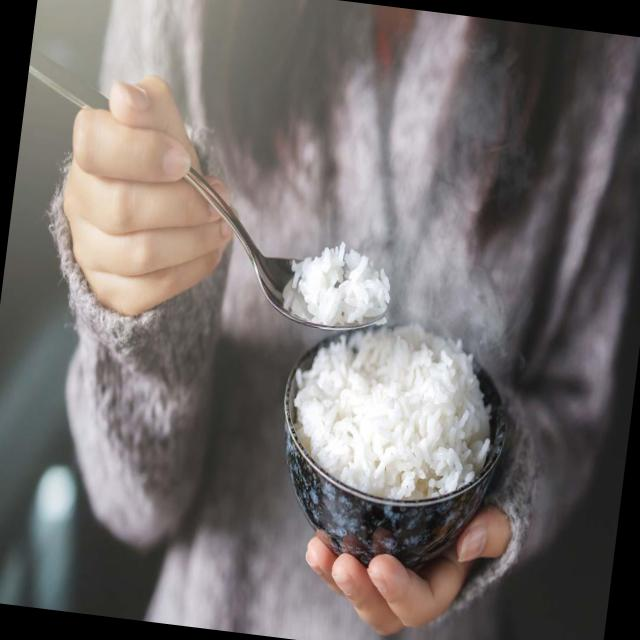rice: (291, 323, 493, 499), (293, 242, 391, 324)
